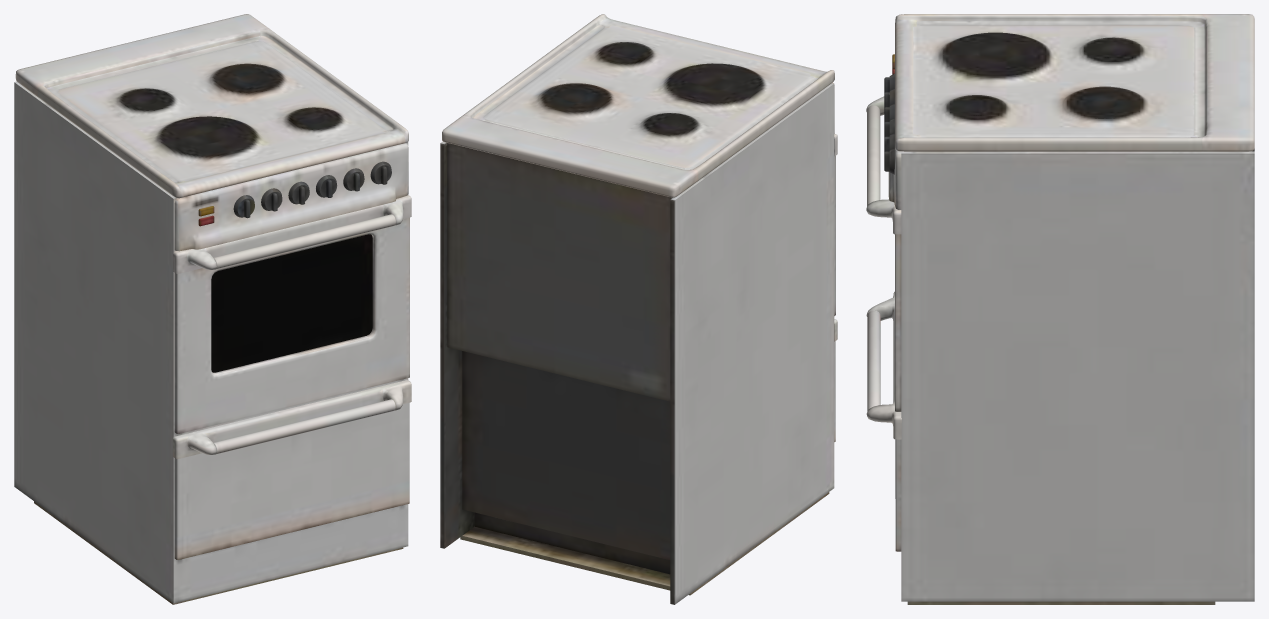
The picture shows the model from 3 angles, left to right: view 1: azimuth 30°, elevation 25°; view 2: azimuth 150°, elevation 25°; view 3: azimuth 270°, elevation 25°; orthographic projection. The views are drawn at different scales.
Visible parts, largest first — view 1: stovetop, door_top, handle_bottom_attachment; view 2: stovetop; view 3: stovetop, door_top, handle_bottom_attachment.
Boxes of the visible parts, bbox=[...] form: stovetop: bbox=[14, 14, 408, 604]; door_top: bbox=[173, 195, 411, 433]; handle_bottom_attachment: bbox=[173, 380, 411, 559]; stovetop: bbox=[440, 14, 834, 604]; stovetop: bbox=[888, 14, 1254, 604]; door_top: bbox=[866, 96, 901, 411]; handle_bottom_attachment: bbox=[866, 291, 901, 551].
Bounding box in the file's own units: 0.5026 × 0.8587 × 0.6476.
2 materials, 2 textured.
